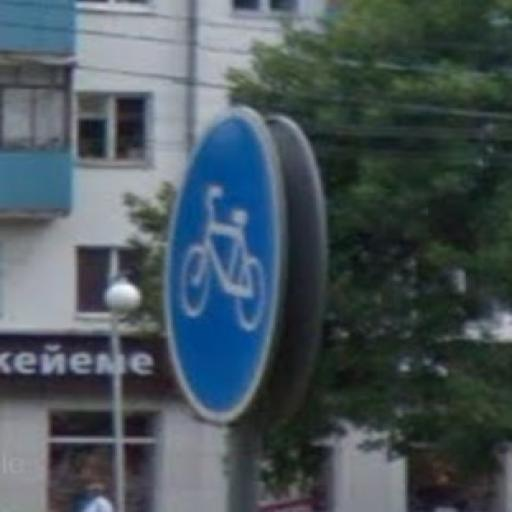traffic_sign: (162, 106, 291, 424)
